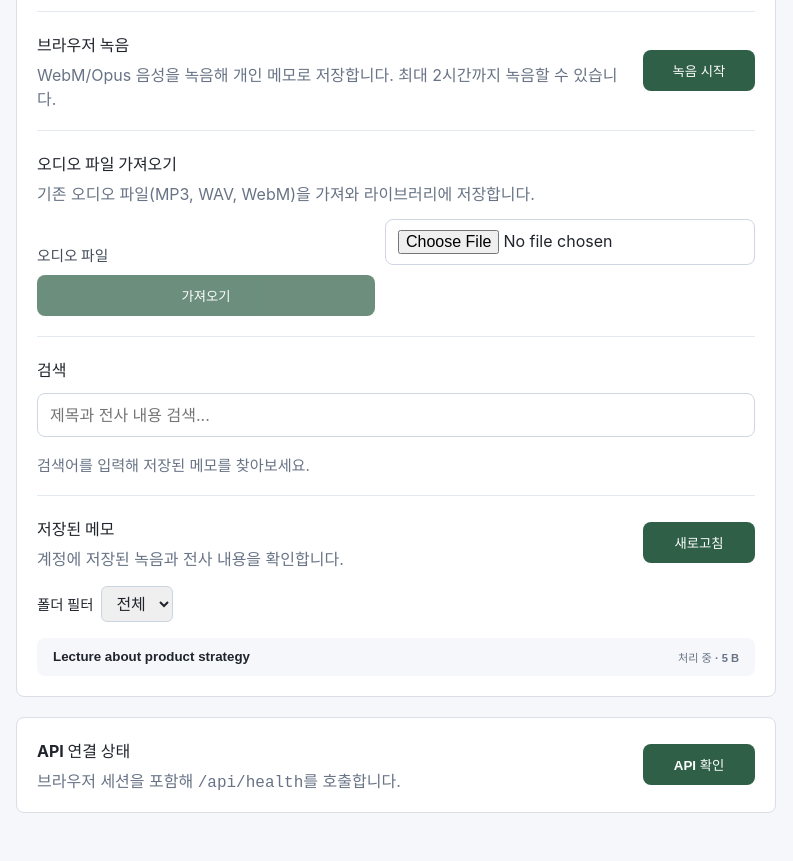
Test: App transcription polling › explains that long or first transcriptions can take several minutes while processing
This screenshot has width=793, height=861.
(page scrolled)
Click the button "Lecture about product strategy 처리 중 · 5 B".
click(152, 657)  # box [37,638,755,676]
(page scrolled)
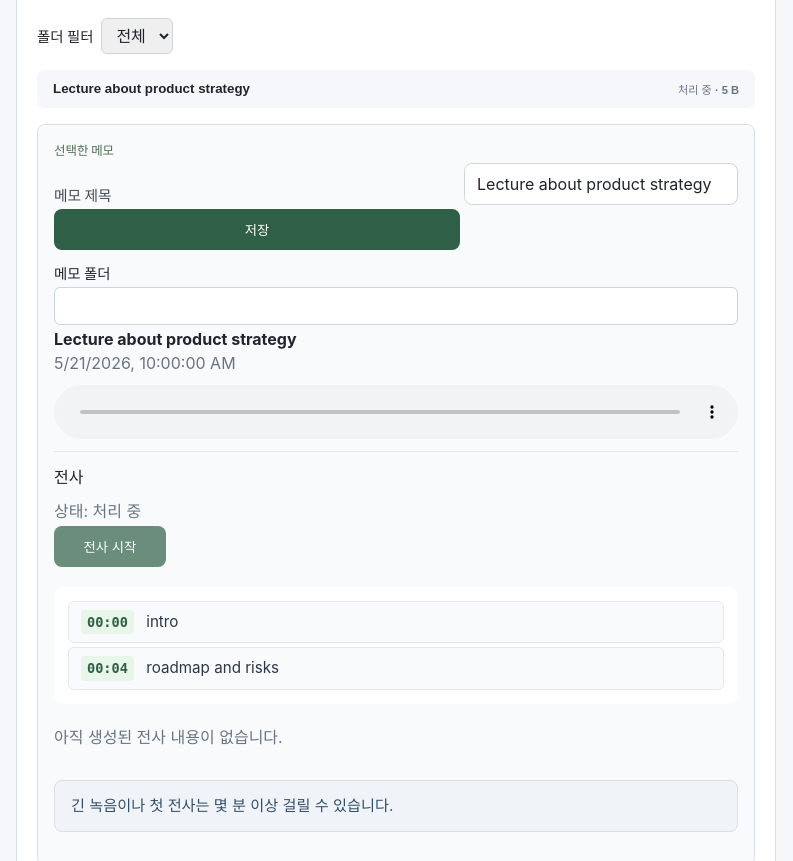
expect the text "긴 녹음이나 첫 전사는 몇 분 이상 걸릴 수 있습니다." is shown: met, box [54,780,738,832]
